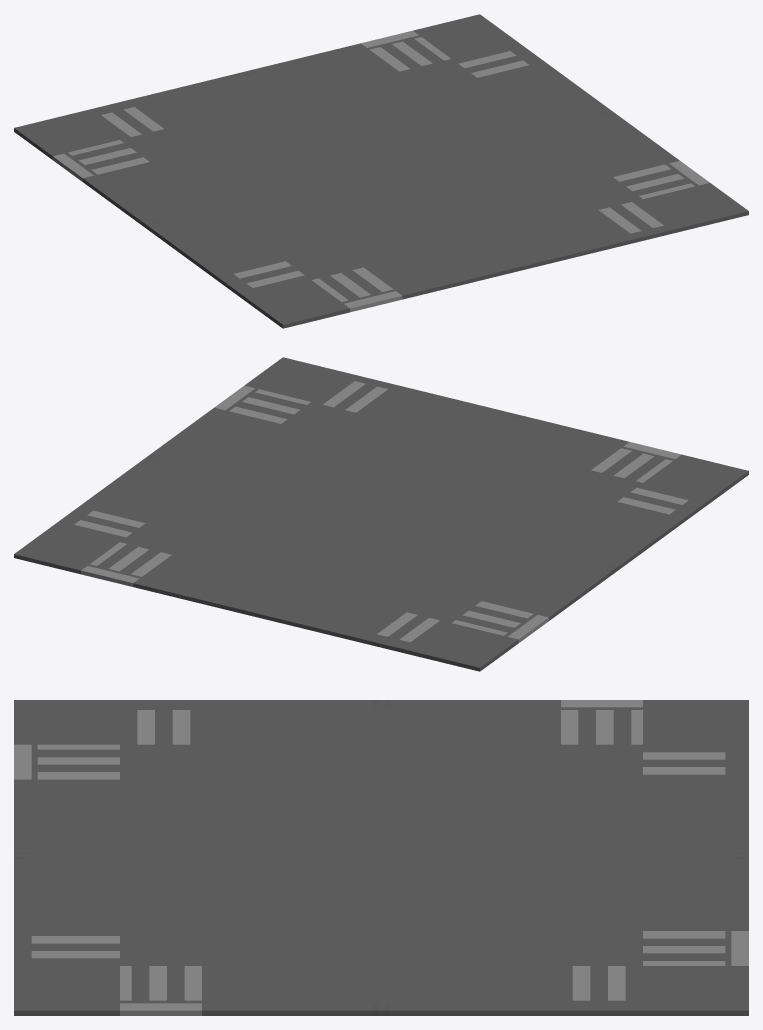
Rendered from kfarr_bases_valencia_intersection.obj.
The picture shows the model from 3 angles, top to bottom: view 1: azimuth 30°, elevation 25°; view 2: azimuth 150°, elevation 25°; view 3: azimuth 270°, elevation 25°; orthographic projection. The views are drawn at different scales.
Size of the model in its own units: 125 by 1 by 125.
